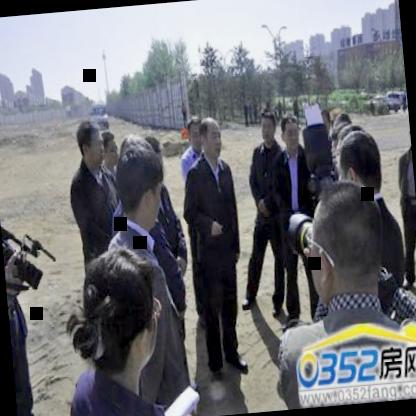head: (73, 244, 169, 387), (304, 177, 397, 312), (110, 134, 171, 228), (335, 128, 387, 203), (72, 116, 104, 178), (196, 113, 224, 162), (96, 126, 122, 173), (278, 109, 303, 156), (258, 106, 281, 147), (184, 111, 204, 155), (404, 118, 412, 153)
